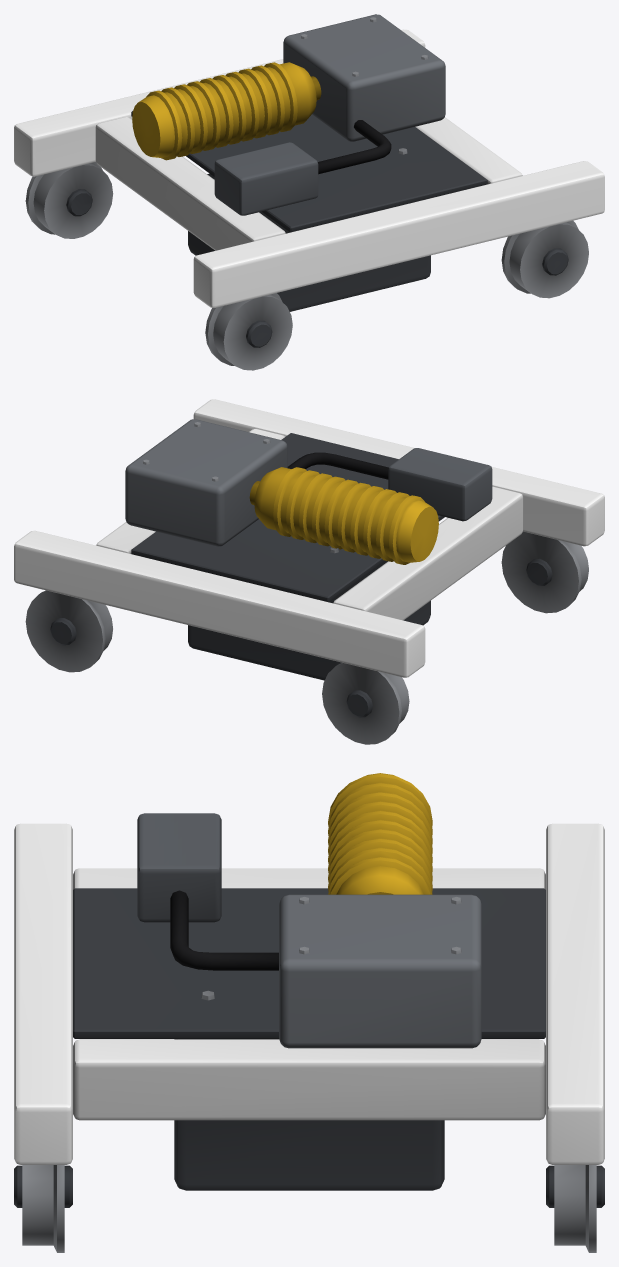
Rendered from estilo_carro_grua.glb.
3 renders of one model, top to bottom at view 1: azimuth 30°, elevation 25°; view 2: azimuth 150°, elevation 25°; view 3: azimuth 270°, elevation 25°, orthographic. The views are drawn at different scales.
Visible parts, largest first — view 1: b800x360x700; view 2: b800x360x700; view 3: b800x360x700.
Boxes of the visible parts, left/top/right/bottom form: b800x360x700: left=14, top=14, right=604, bottom=370; b800x360x700: left=14, top=399, right=604, bottom=744; b800x360x700: left=14, top=773, right=604, bottom=1252.
Size of the model in its own units: 0.8 by 0.3592 by 0.7.
